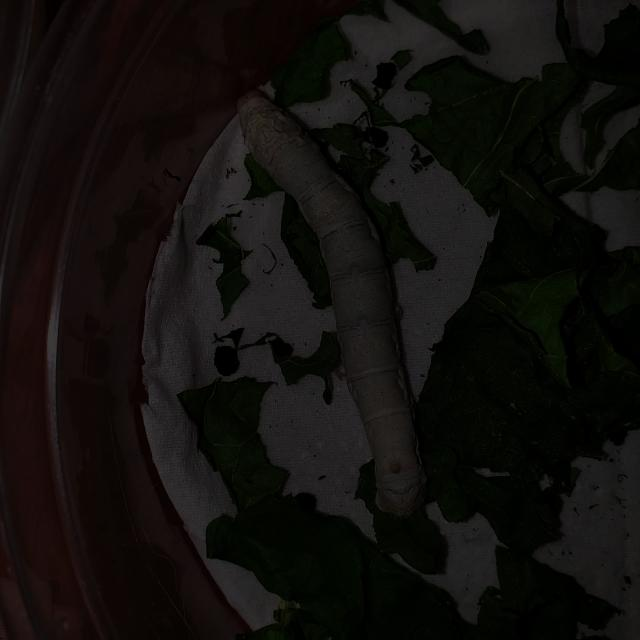Healthy: (231, 87, 438, 520)
